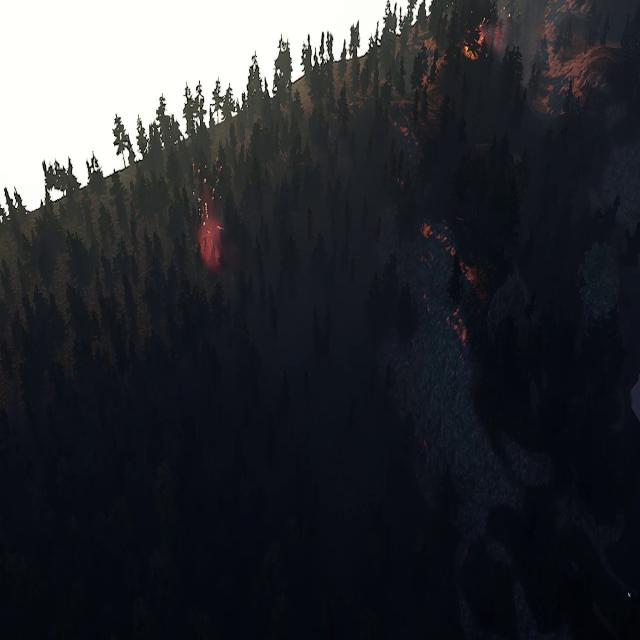fire: (194, 178, 223, 269), (479, 24, 487, 48)
smoke: (479, 11, 507, 57)
